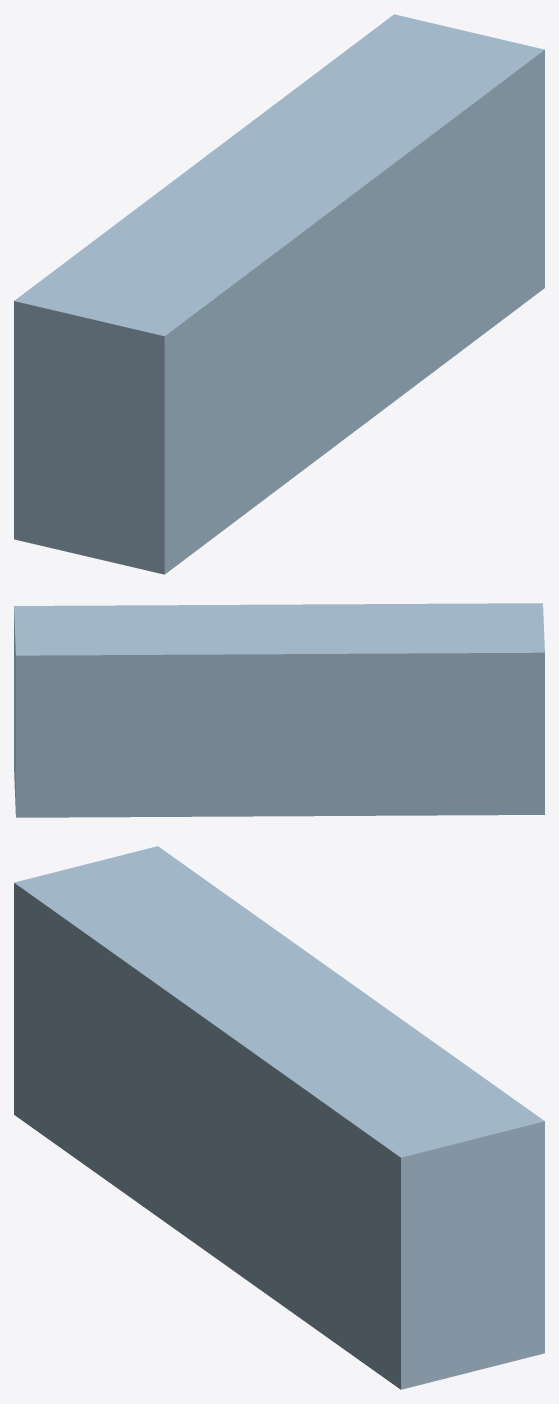
File: osm_way_225265327.glb
3 renders of one model, top to bottom at view 1: azimuth 30°, elevation 25°; view 2: azimuth 150°, elevation 25°; view 3: azimuth 270°, elevation 25°, orthographic. The views are drawn at different scales.
Parts seen in each view (by area): view 1: osm_way_225265327; view 2: osm_way_225265327; view 3: osm_way_225265327.
Boxes of the visible parts, box(x1,y1,x2,y2) form: osm_way_225265327: box(14, 14, 544, 574); osm_way_225265327: box(14, 603, 544, 817); osm_way_225265327: box(14, 846, 544, 1389).
Bounding box in the file's own units: 55.28 × 19.2 × 39.8.
